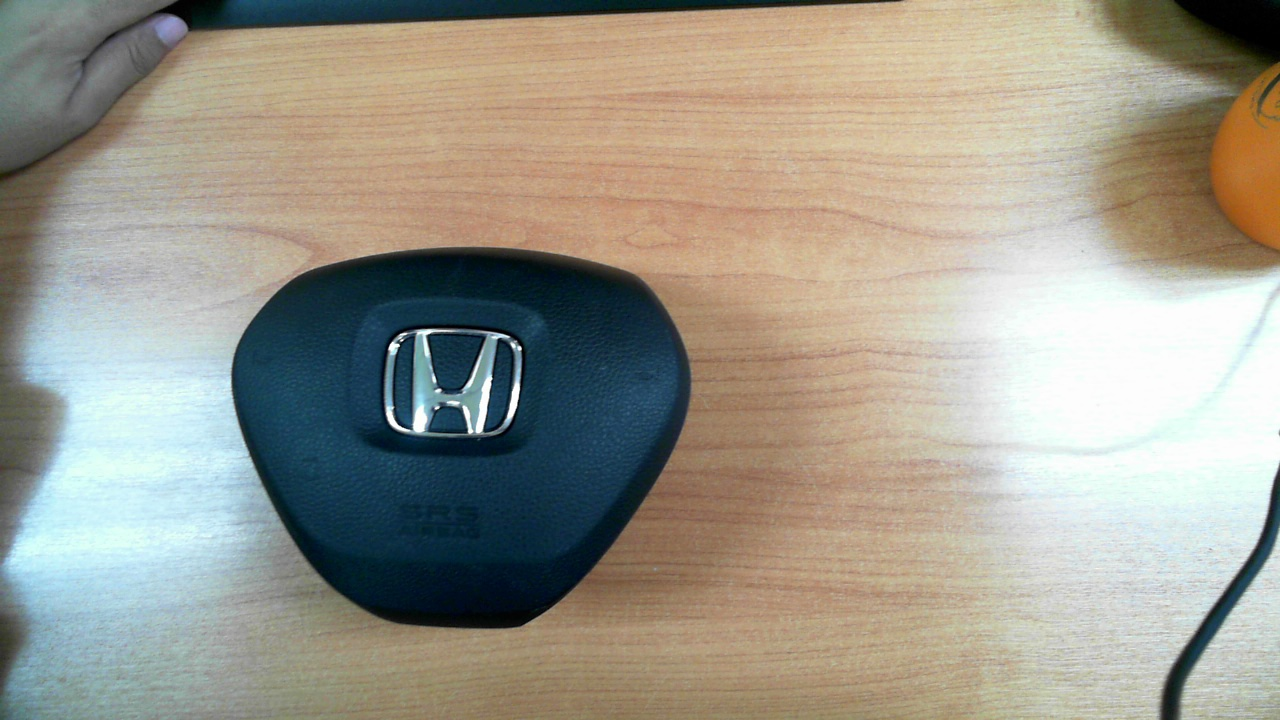Airbag: (230, 247, 692, 630)
Honda: (383, 328, 523, 437)
